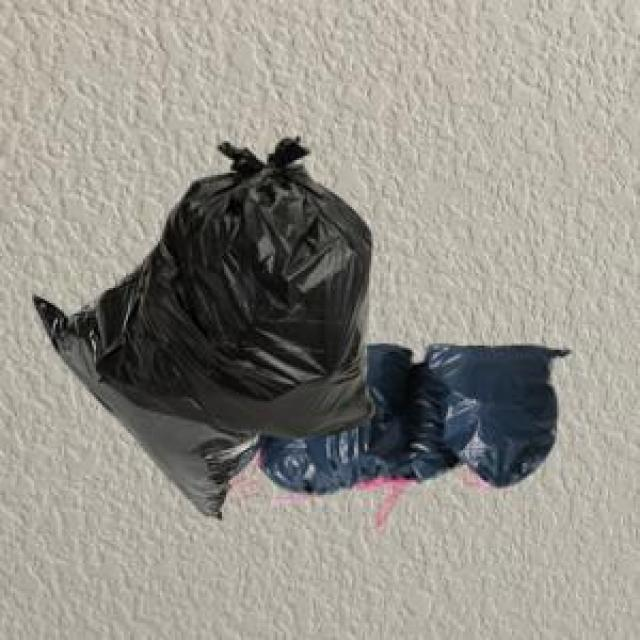waste: (34, 139, 567, 516)
